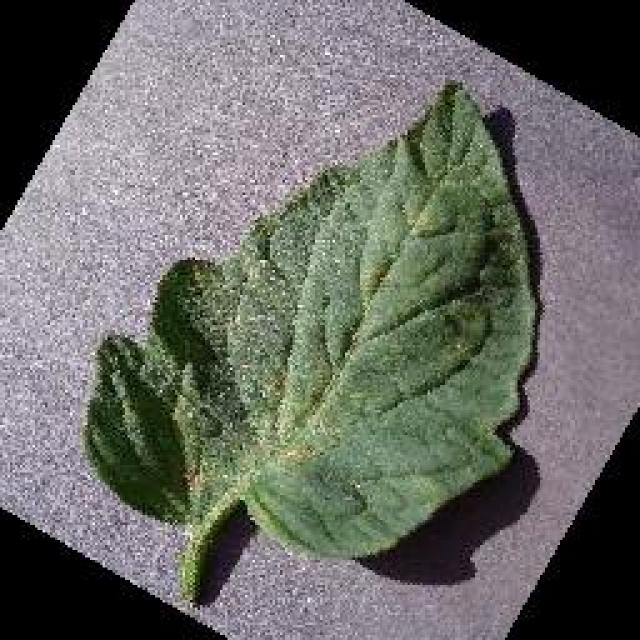Tomato___Target_Spot: (85, 82, 532, 598)
